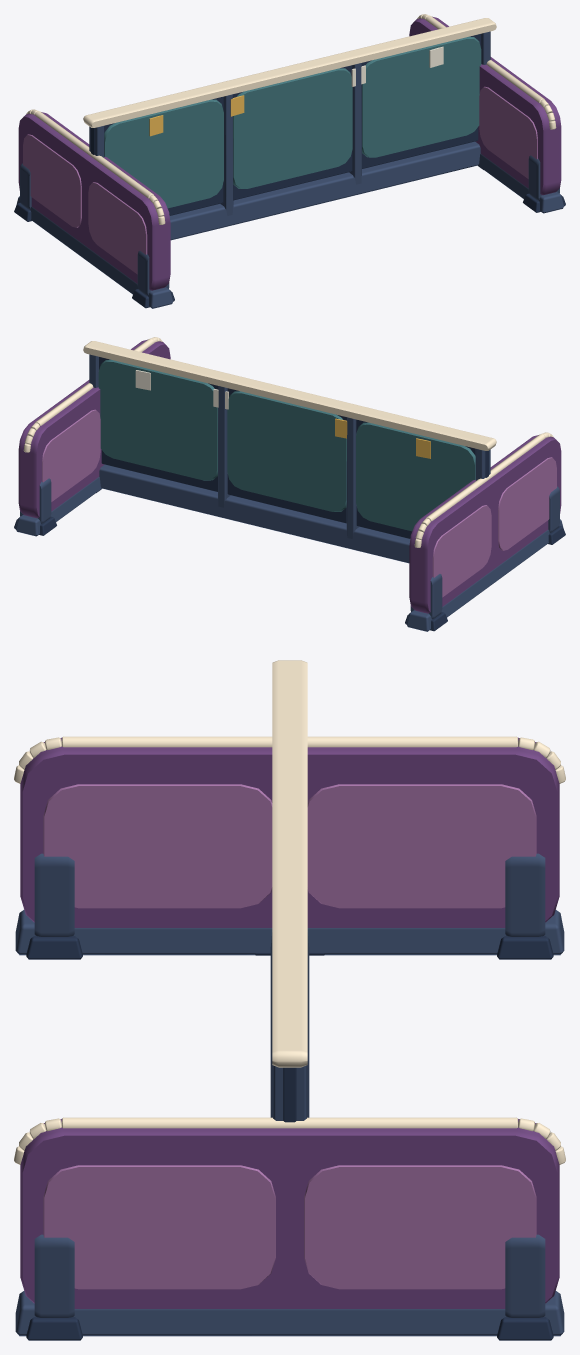
The model's file is partition_low.glb.
3 renders of one model, top to bottom at view 1: azimuth 30°, elevation 25°; view 2: azimuth 150°, elevation 25°; view 3: azimuth 270°, elevation 25°, orthographic. The views are drawn at different scales.
Visible parts, largest first — view 1: partition_low; view 2: partition_low; view 3: partition_low.
Boxes of the visible parts, x1,y1,x2,y2 form: partition_low: [14, 14, 565, 308]; partition_low: [14, 337, 565, 631]; partition_low: [14, 660, 565, 1340].
Size of the model in its own units: 5.37 by 1.71 by 3.05.
